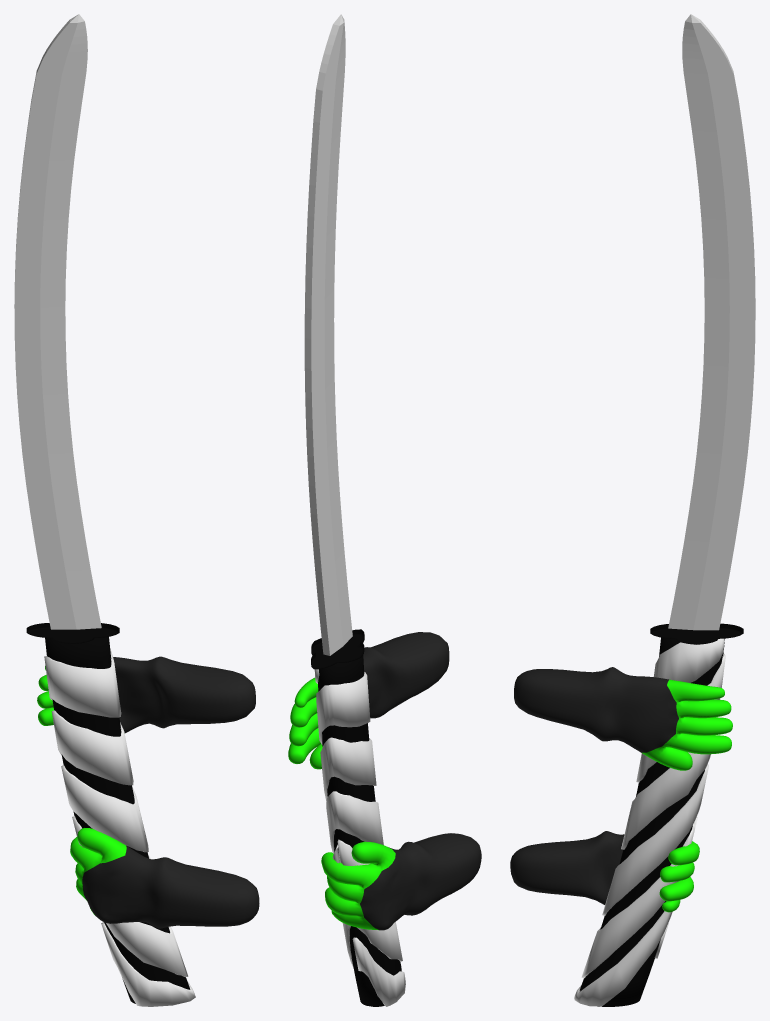
The model's file is espada toad path #1 (1).fbx.
The picture shows the model from 3 angles, left to right: view 1: azimuth 90°, elevation 25°; view 2: azimuth 150°, elevation 25°; view 3: azimuth 270°, elevation 25°; orthographic projection. The views are drawn at different scales.
Visible parts, largest first — view 1: Plane.002, Plane.001, Hand.001, Hand.002, mango, Circle; view 2: Plane.002, Hand.001, Plane.001, Hand.002, mango, Circle; view 3: Plane.002, Hand.002, Plane.001, Hand.001, mango, Circle.
Boxes of the visible parts, x1,y1,x2,y2 form: Plane.002: (14, 14, 101, 629); Plane.001: (44, 648, 195, 1006); Hand.001: (70, 828, 259, 928); Hand.002: (37, 656, 255, 733); mango: (45, 637, 190, 1003); Circle: (26, 623, 119, 643); Plane.002: (304, 14, 352, 655); Hand.001: (321, 833, 481, 930); Plane.001: (314, 669, 405, 1006); Hand.002: (288, 632, 449, 769); mango: (318, 655, 401, 1006); Circle: (311, 629, 364, 669); Plane.002: (668, 14, 755, 630); Hand.002: (514, 667, 732, 770); Plane.001: (574, 638, 725, 1006); Hand.001: (510, 831, 699, 912); mango: (579, 637, 724, 1006); Circle: (650, 623, 743, 644).
Bounding box in the file's own units: 185 × 1761 × 397.
